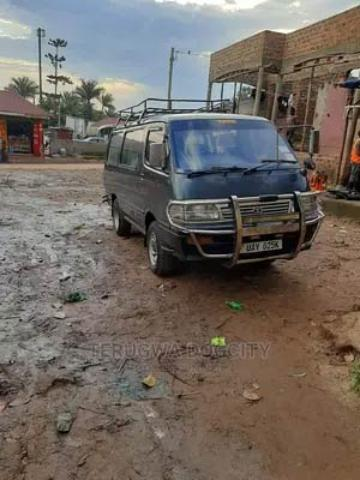van: (102, 99, 320, 275)
